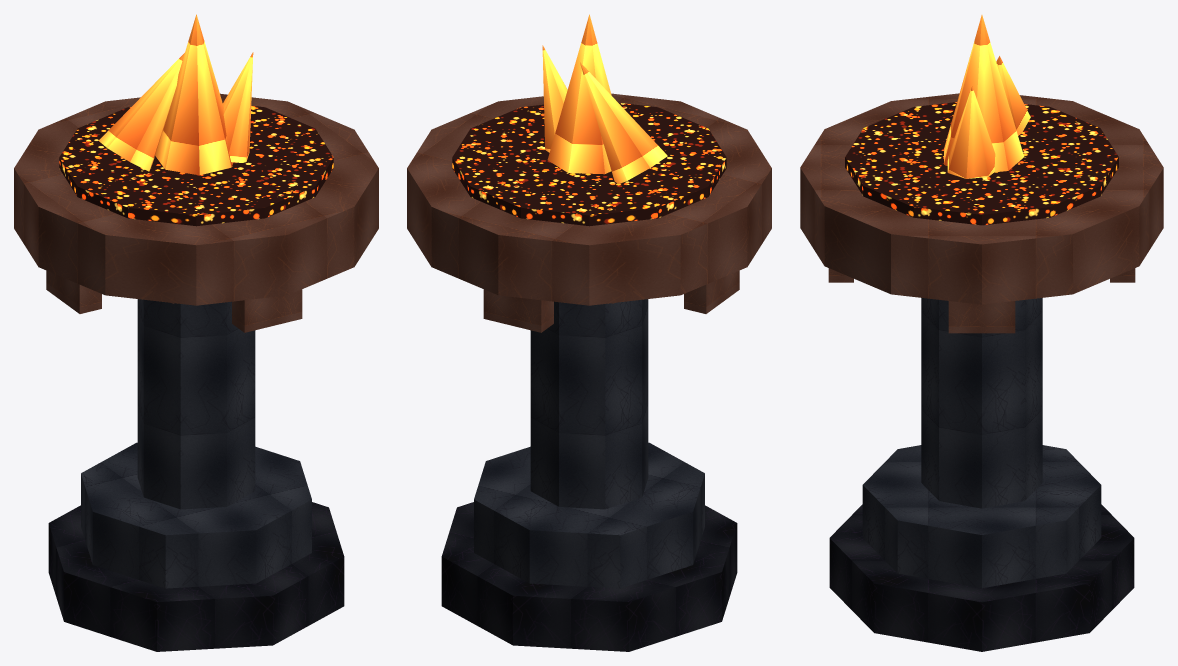
The model's file is blackstone-brazier.glb.
The picture shows the model from 3 angles, left to right: view 1: azimuth 30°, elevation 25°; view 2: azimuth 150°, elevation 25°; view 3: azimuth 270°, elevation 25°; orthographic projection.
Parts seen in each view (by area): view 1: Brazier_Basin, Brazier_Column, Brazier_Plinth, Brazier_Foot, Brazier_CoalBed, Brazier_Flame_1, Brazier_Flame_3, Brazier_Flame_2, Brazier_Brace_2, Brazier_Brace_3; view 2: Brazier_Basin, Brazier_Column, Brazier_Plinth, Brazier_Foot, Brazier_CoalBed, Brazier_Flame_1, Brazier_Flame_3, Brazier_Brace_4, Brazier_Flame_2, Brazier_Brace_3; view 3: Brazier_Basin, Brazier_Plinth, Brazier_Column, Brazier_Foot, Brazier_CoalBed, Brazier_Flame_1, Brazier_Flame_2, Brazier_Brace_1, Brazier_Flame_3.
Part boxes in pixels (bbox=[...]): Brazier_Basin: bbox=[14, 93, 378, 305]; Brazier_Column: bbox=[137, 299, 255, 509]; Brazier_Plinth: bbox=[81, 442, 311, 588]; Brazier_Foot: bbox=[48, 502, 344, 651]; Brazier_CoalBed: bbox=[59, 102, 333, 226]; Brazier_Flame_1: bbox=[155, 14, 233, 175]; Brazier_Flame_3: bbox=[98, 53, 184, 171]; Brazier_Flame_2: bbox=[223, 52, 253, 162]; Brazier_Brace_2: bbox=[232, 289, 302, 332]; Brazier_Brace_3: bbox=[46, 270, 101, 313]; Brazier_Basin: bbox=[407, 93, 771, 305]; Brazier_Column: bbox=[530, 299, 648, 509]; Brazier_Plinth: bbox=[474, 442, 704, 588]; Brazier_Foot: bbox=[441, 502, 737, 651]; Brazier_CoalBed: bbox=[452, 102, 726, 226]; Brazier_Flame_1: bbox=[547, 14, 611, 174]; Brazier_Flame_3: bbox=[580, 62, 667, 183]; Brazier_Brace_4: bbox=[483, 289, 553, 332]; Brazier_Flame_2: bbox=[542, 45, 567, 152]; Brazier_Brace_3: bbox=[684, 270, 739, 313]; Brazier_Basin: bbox=[800, 93, 1163, 304]; Brazier_Plinth: bbox=[862, 445, 1101, 588]; Brazier_Column: bbox=[921, 298, 1042, 508]; Brazier_Foot: bbox=[829, 504, 1134, 651]; Brazier_CoalBed: bbox=[845, 102, 1118, 225]; Brazier_Flame_1: bbox=[944, 15, 1024, 172]; Brazier_Flame_2: bbox=[947, 86, 995, 178]; Brazier_Brace_1: bbox=[948, 301, 1015, 333]; Brazier_Flame_3: bbox=[996, 56, 1030, 135].
Size of the model in its own units: 1.86 by 3.24 by 1.86.
Materials: 5 (5 with a texture image).
